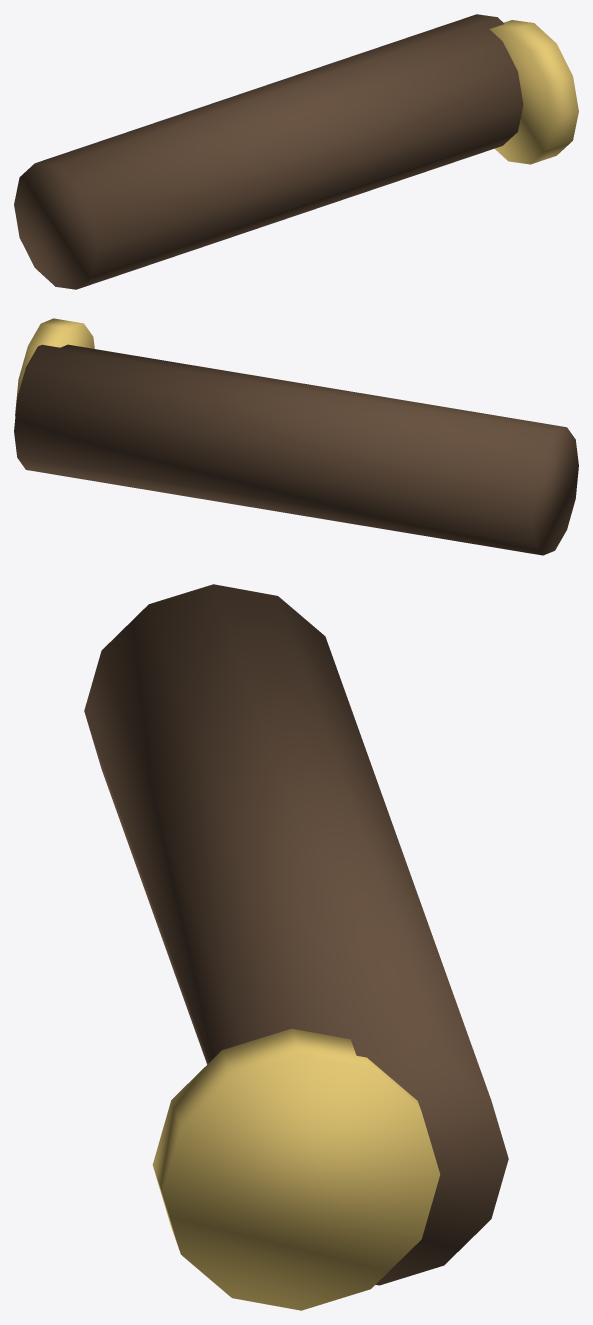
The model's file is scroll_scroll_tube.glb.
3 views of the same model, one above another, from view 1: azimuth 30°, elevation 25°; view 2: azimuth 150°, elevation 25°; view 3: azimuth 270°, elevation 25° (orthographic). The views are drawn at different scales.
Visible parts, largest first — view 1: GD_scroll_scroll_tube__m0, GD_scroll_scroll_tube__m1; view 2: GD_scroll_scroll_tube__m0, GD_scroll_scroll_tube__m1; view 3: GD_scroll_scroll_tube__m0, GD_scroll_scroll_tube__m1.
Boxes of the visible parts, bbox=[...] form: GD_scroll_scroll_tube__m0: bbox=[14, 14, 523, 289]; GD_scroll_scroll_tube__m1: bbox=[489, 20, 578, 164]; GD_scroll_scroll_tube__m0: bbox=[14, 344, 578, 555]; GD_scroll_scroll_tube__m1: bbox=[15, 318, 94, 415]; GD_scroll_scroll_tube__m0: bbox=[84, 584, 508, 1285]; GD_scroll_scroll_tube__m1: bbox=[152, 1028, 440, 1310].
Bounding box in the file's own units: 0.3604 × 0.086 × 0.1299.
